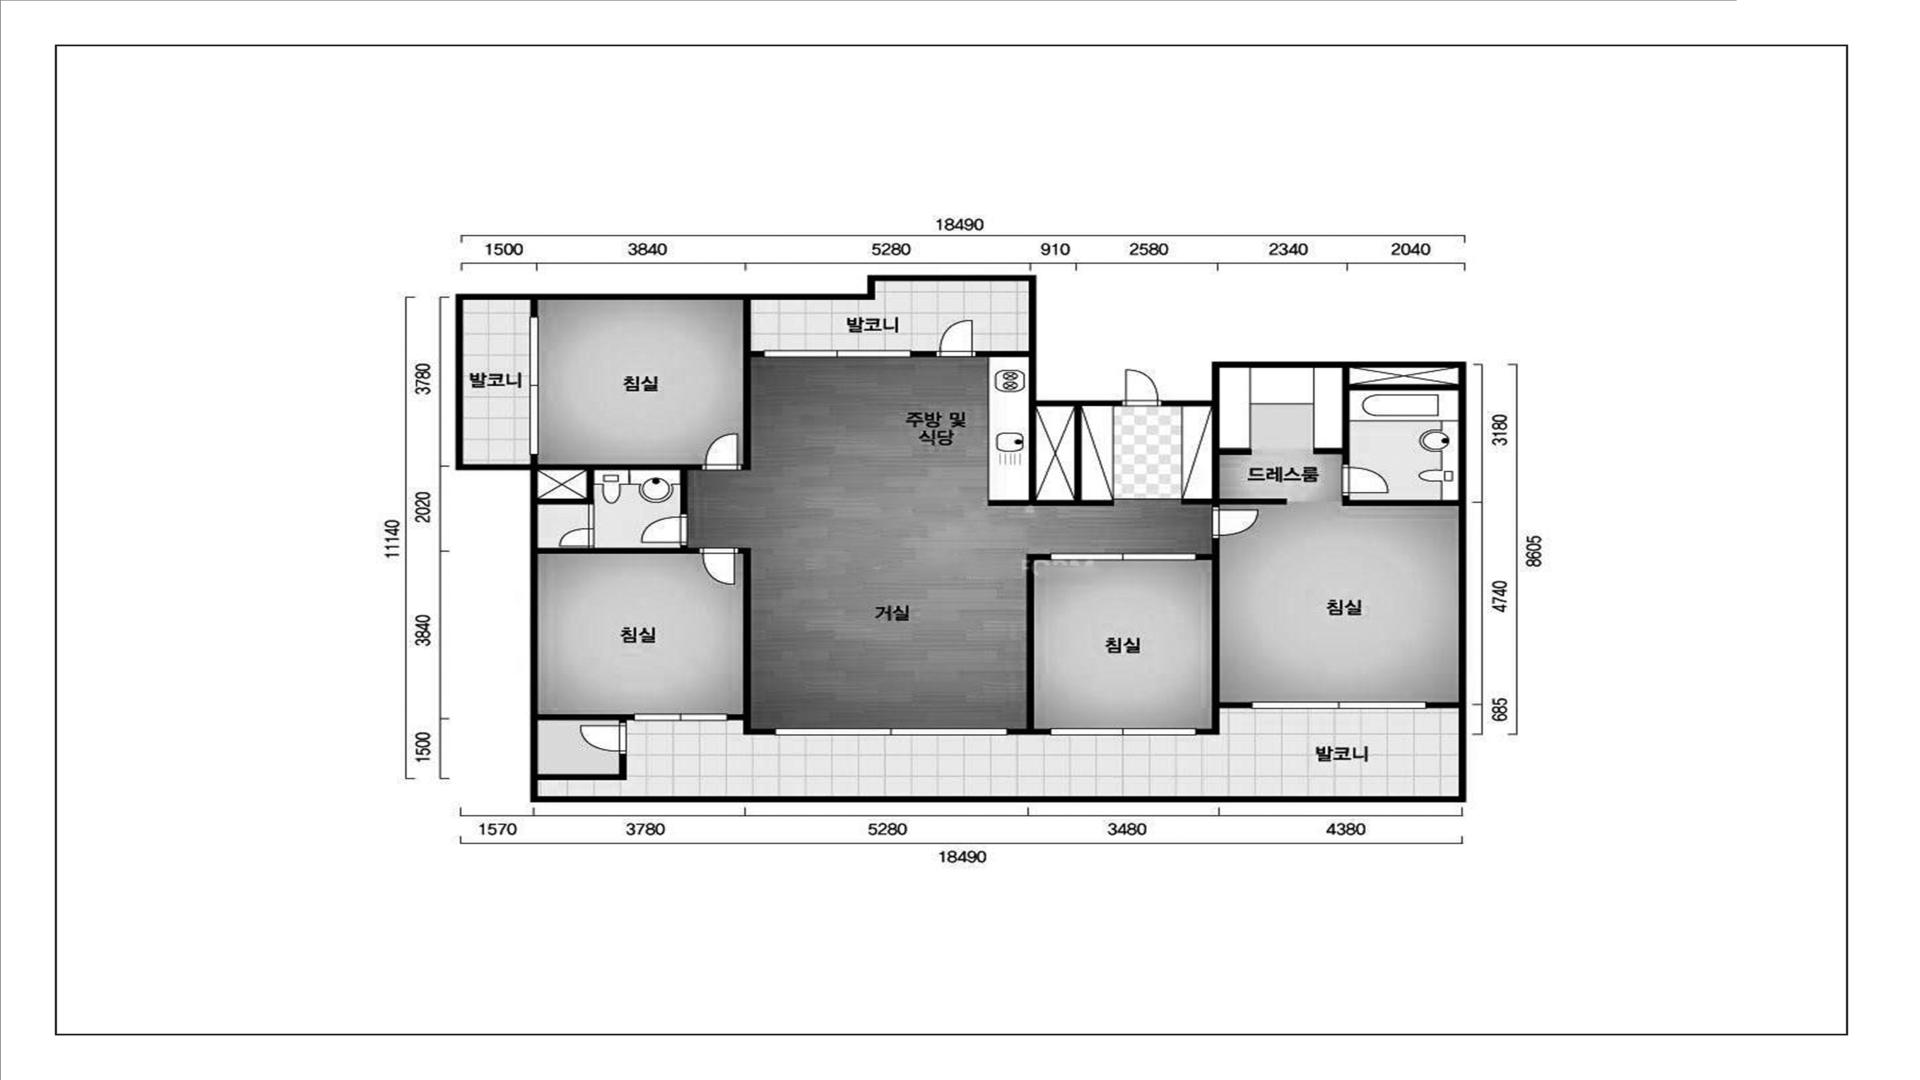background: (0, 0, 1920, 1080)
door: (640, 513, 688, 547), (1211, 505, 1259, 539), (1341, 463, 1390, 497), (579, 721, 626, 756), (698, 547, 740, 585), (935, 319, 977, 357), (1121, 368, 1163, 406), (702, 433, 742, 471), (559, 527, 595, 547)
wall: (456, 276, 1466, 803), (1313, 368, 1458, 463), (988, 406, 1114, 506), (1182, 406, 1287, 505), (538, 464, 702, 527), (1197, 539, 1250, 735), (728, 547, 774, 735), (1009, 554, 1050, 735), (744, 301, 762, 471), (538, 756, 626, 779), (1342, 497, 1458, 506), (538, 547, 698, 554), (538, 715, 633, 721), (977, 351, 1029, 357), (1427, 703, 1458, 708), (911, 351, 935, 357), (531, 301, 538, 315), (531, 455, 538, 464)
window: (774, 728, 1009, 736), (529, 316, 539, 455), (1250, 702, 1427, 709), (1050, 728, 1197, 736), (1050, 553, 1197, 560), (764, 349, 911, 357), (633, 713, 728, 721)
